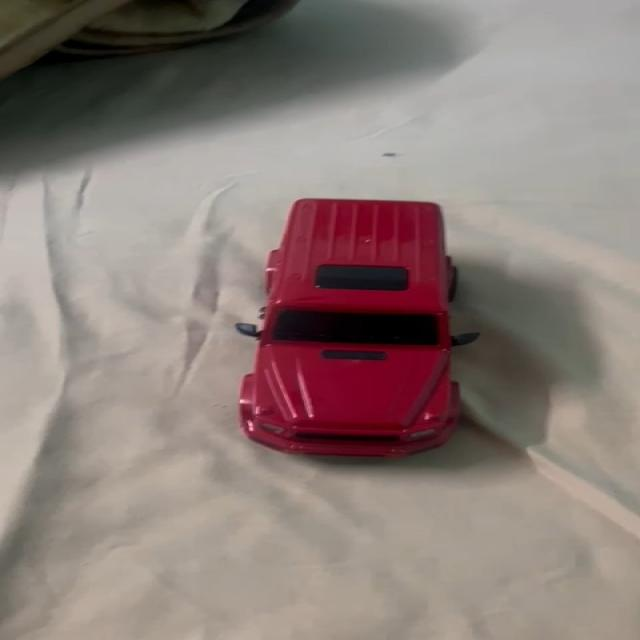light_vehicle: (220, 192, 477, 458)
